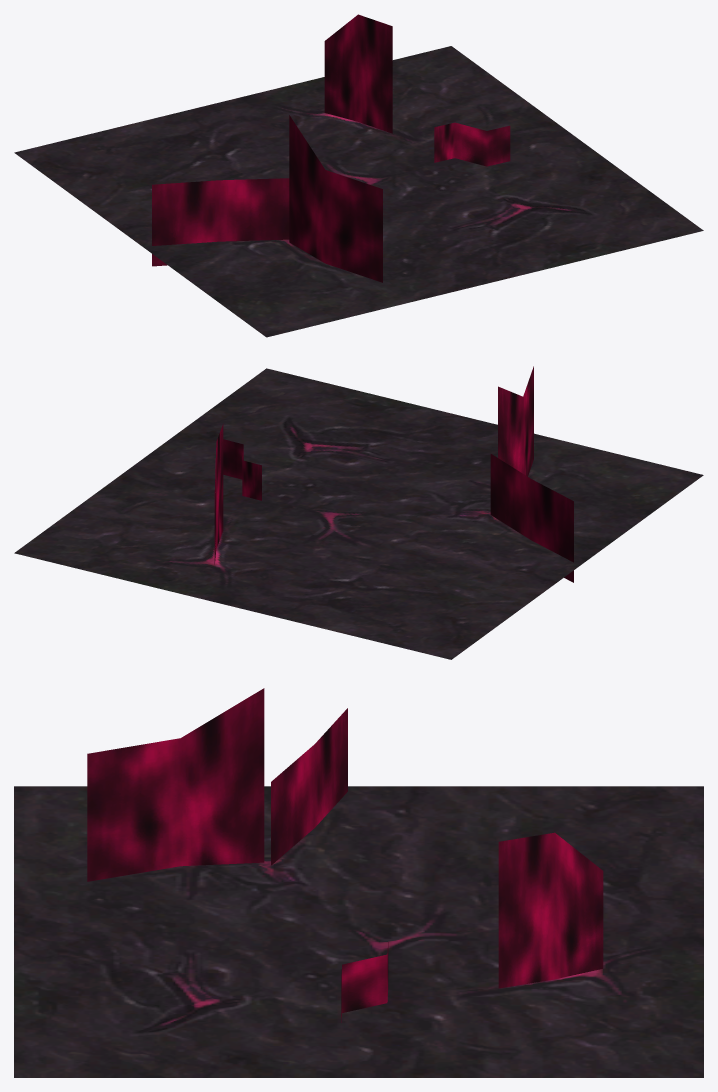
File: cave_floor_blank_01.fbx
3 views of the same model, one above another, from view 1: azimuth 30°, elevation 25°; view 2: azimuth 150°, elevation 25°; view 3: azimuth 270°, elevation 25° (orthographic). The views are drawn at different scales.
Visible parts, largest first — view 1: cave_floor_blank_01-0; view 2: cave_floor_blank_01-0; view 3: cave_floor_blank_01-0.
Part boxes in pixels (box(x1,y1,x2,y2)): cave_floor_blank_01-0: box(14, 14, 703, 337); cave_floor_blank_01-0: box(14, 366, 703, 659); cave_floor_blank_01-0: box(14, 688, 703, 1077).
Size of the model in its own units: 4 by 1.33 by 4.
